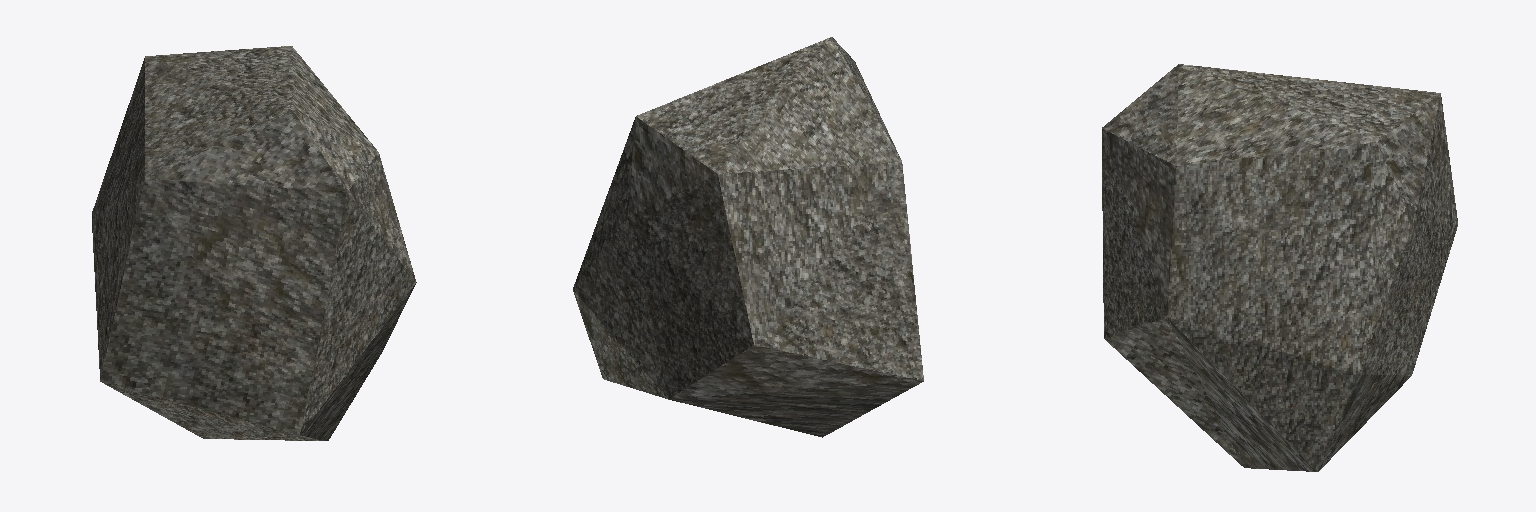
3 renders of one model, left to right at view 1: azimuth 30°, elevation 25°; view 2: azimuth 150°, elevation 25°; view 3: azimuth 270°, elevation 25°, orthographic.
Visible parts, largest first — view 1: bouldercubic8; view 2: bouldercubic8; view 3: bouldercubic8.
Boxes of the visible parts, x1,y1,x2,y2 form: bouldercubic8: [92, 46, 416, 440]; bouldercubic8: [573, 37, 923, 437]; bouldercubic8: [1102, 64, 1457, 471].
Bounding box in the file's own units: 1.94 × 2.21 × 1.93.
1 materials, 1 textured.